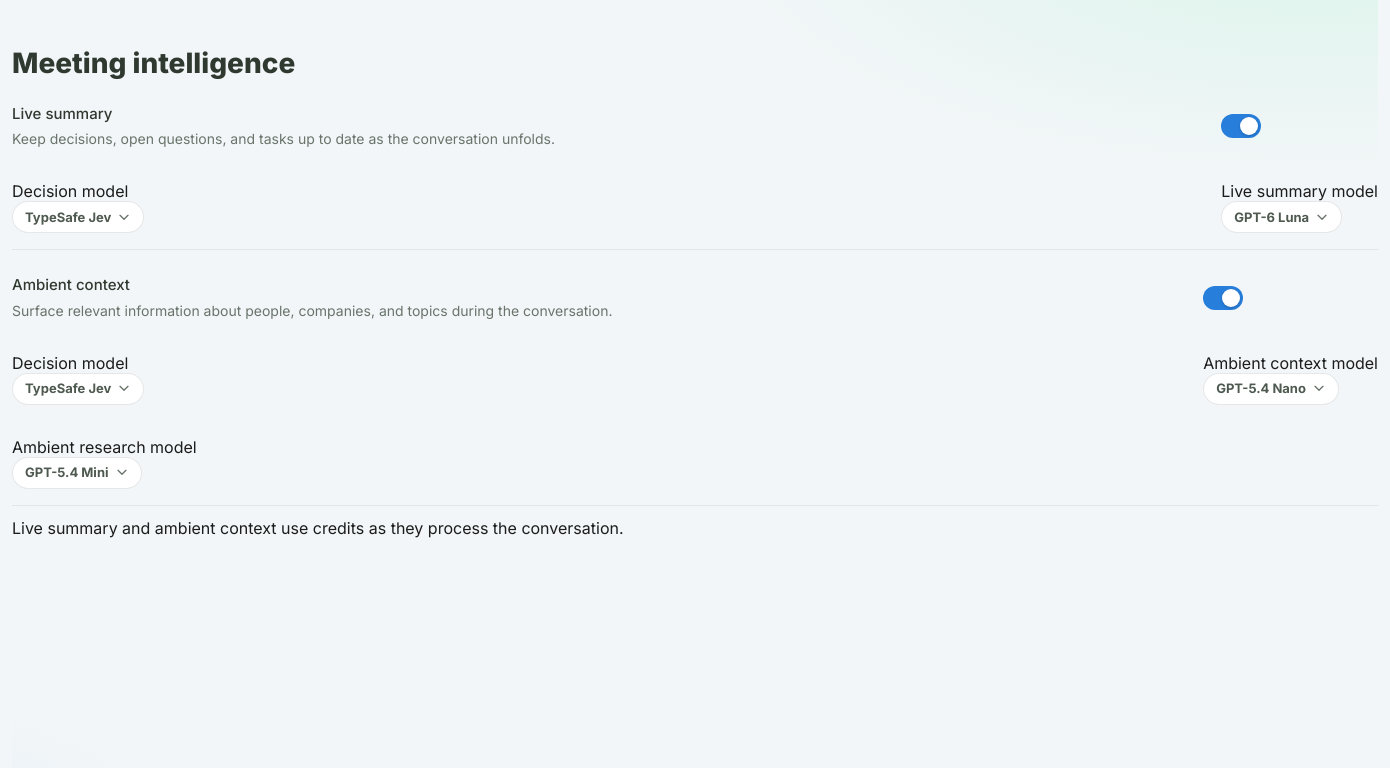
Test: each model dropdown offers only its current default
The image size is (1390, 768).
Click the button with aria-label "Live summary model: GPT-6 Luna" at (1282, 217), box [1221,201,1342,233]
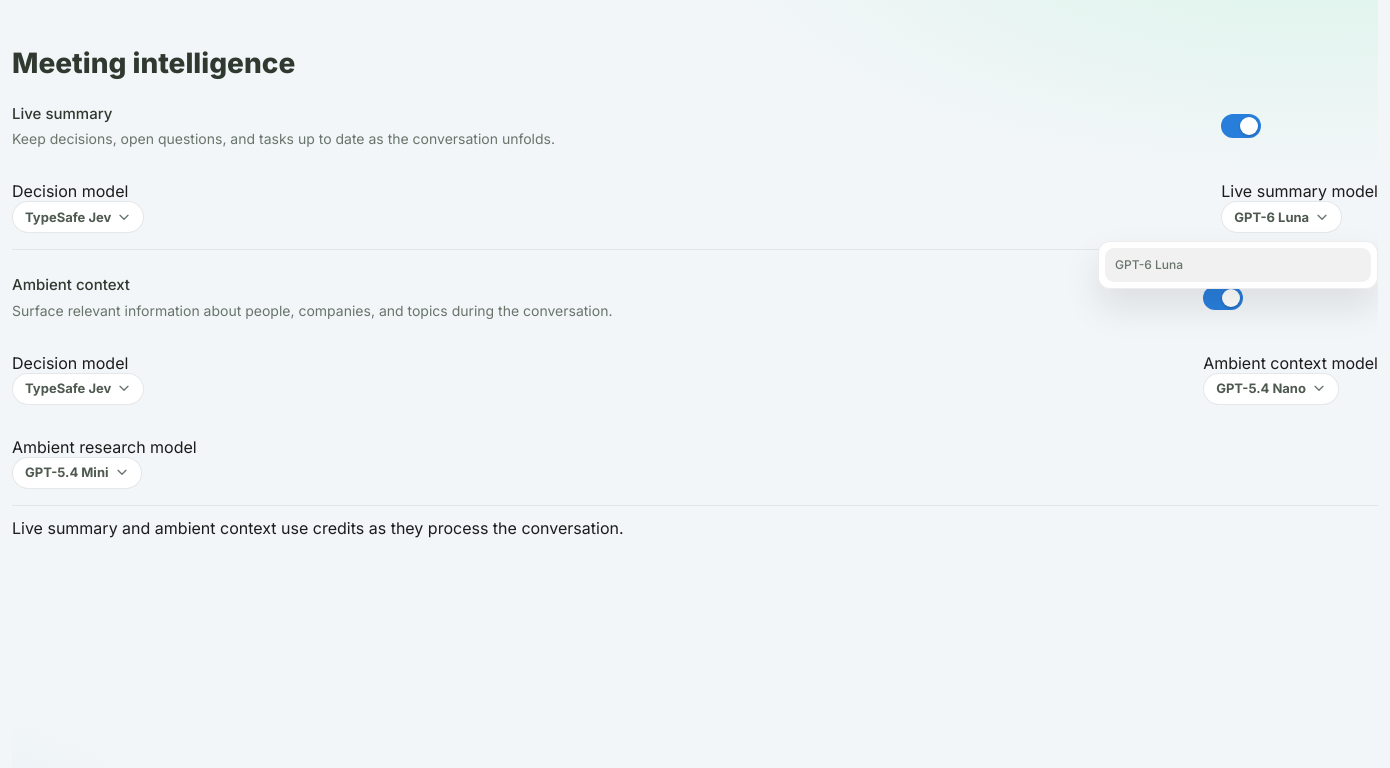
Click the option "GPT-6 Luna" at (1149, 265), box [1105,248,1371,282]
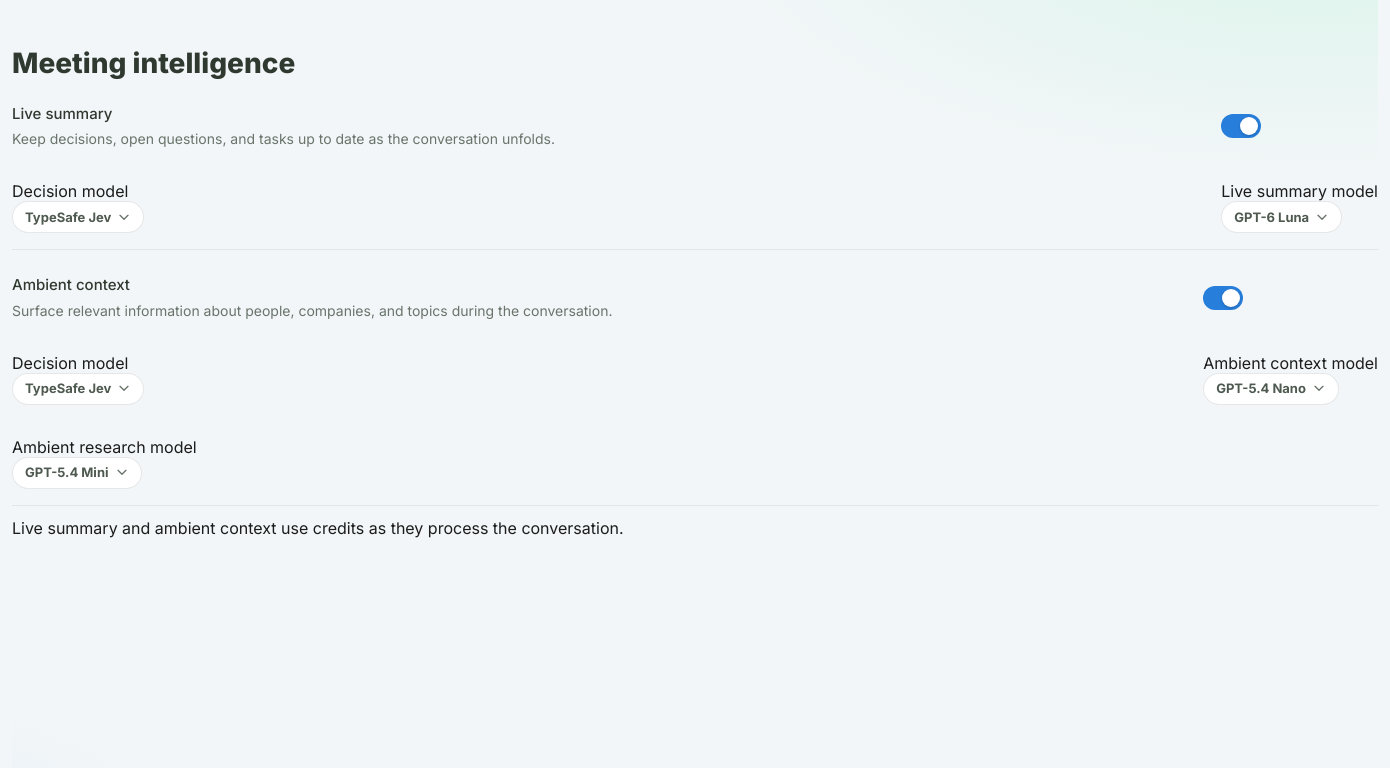
Expected: the list is gone
Click the button with aria-label "Ambient context model: GPT-5.4 Nano" at (1271, 389), box [1203,373,1339,405]
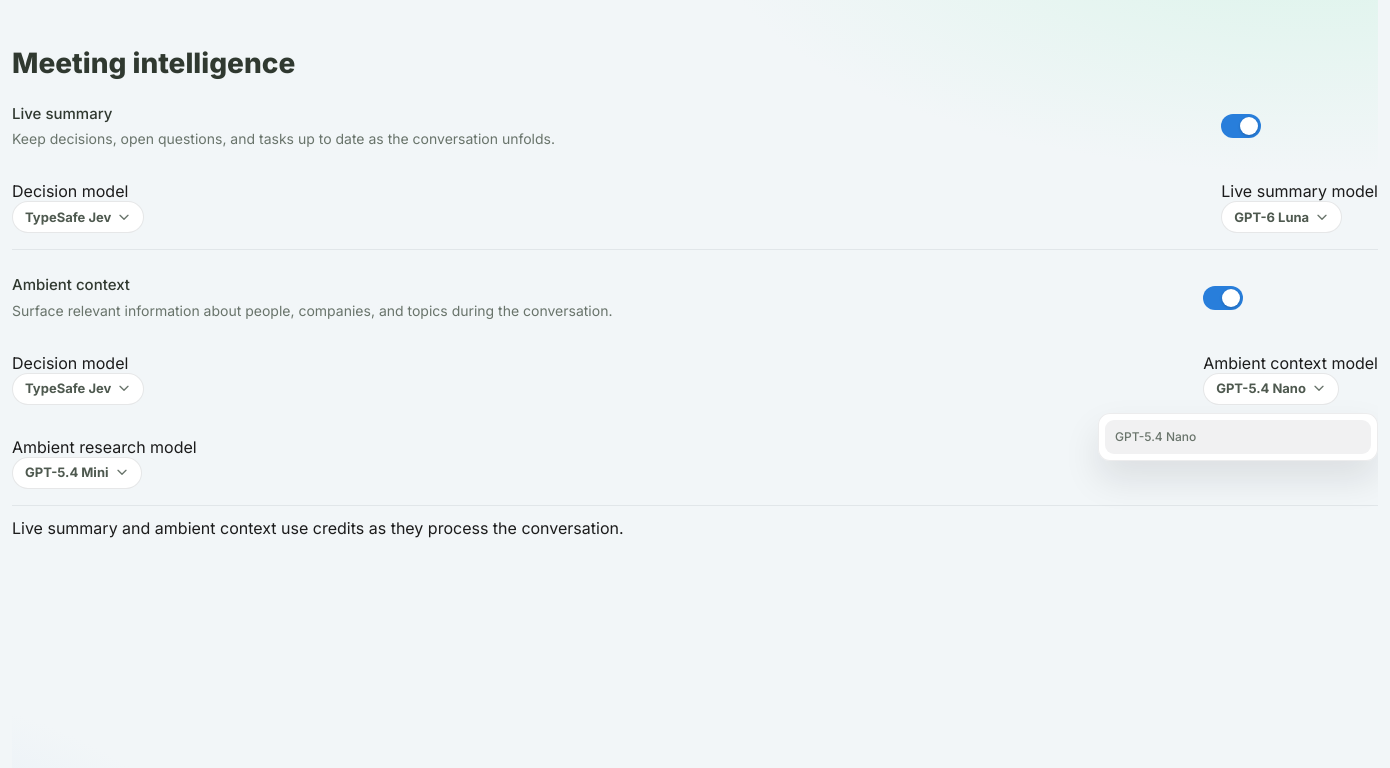
Click the option "GPT-5.4 Nano" at (1156, 436), box [1105,420,1371,454]
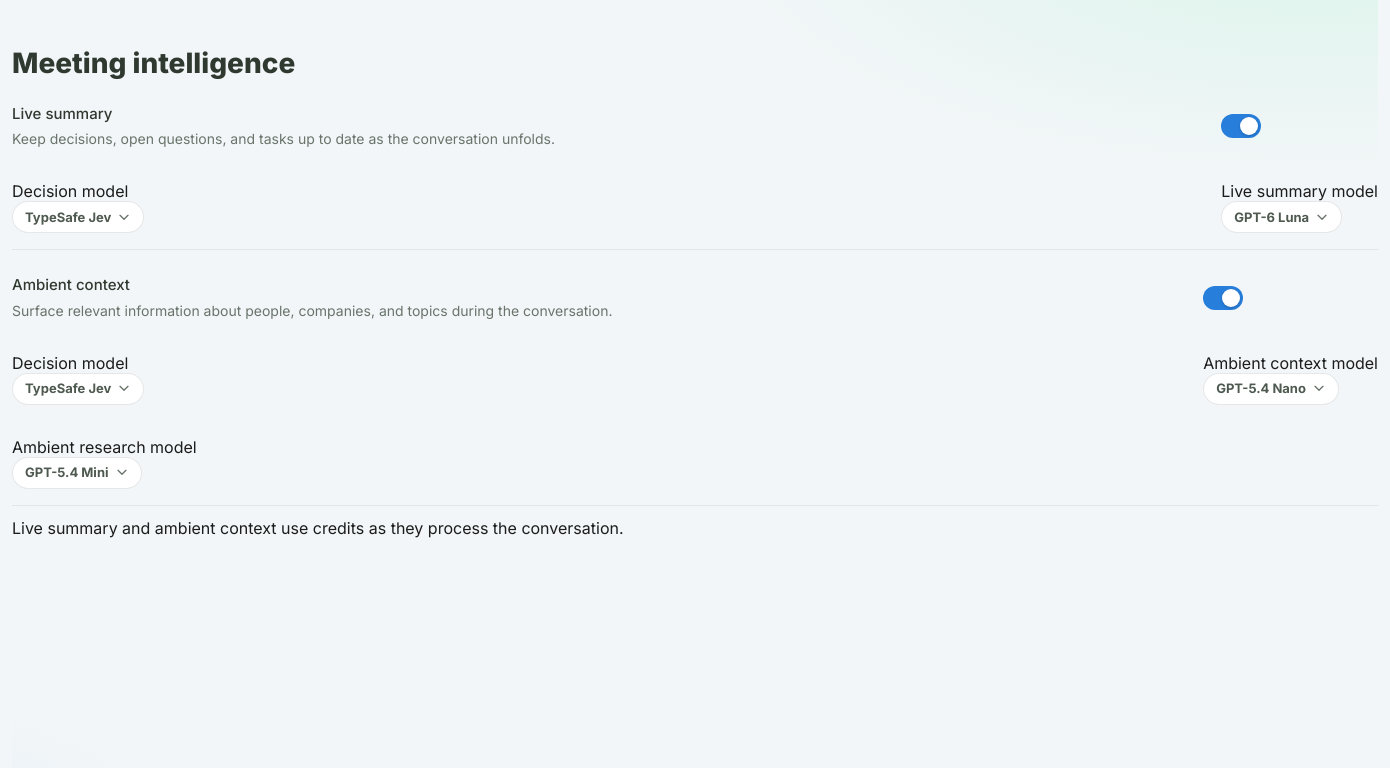
Expected: the list is gone
Click the button "GPT-5.4 Mini" at (77, 473), box [12,457,142,489]
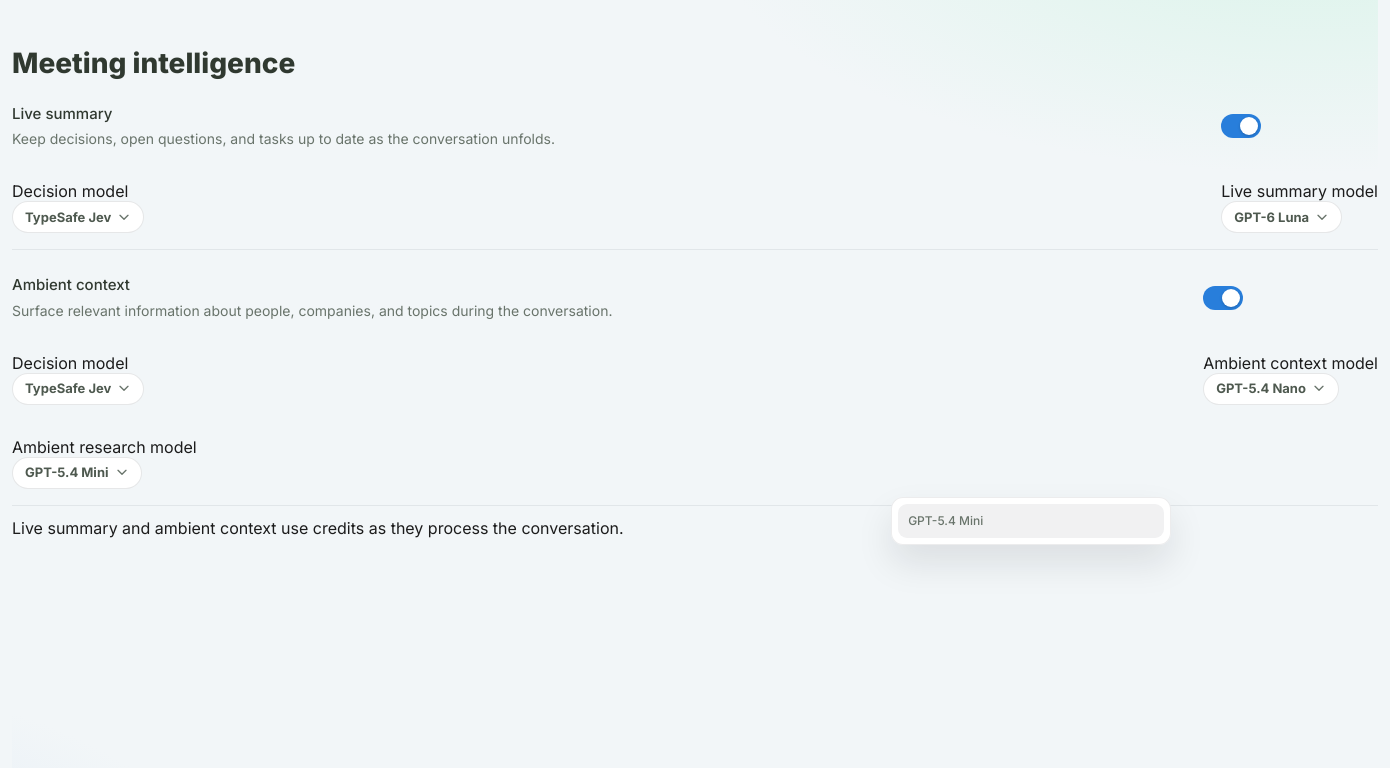
Click the option "GPT-5.4 Mini" at (946, 520), box [898,504,1164,538]
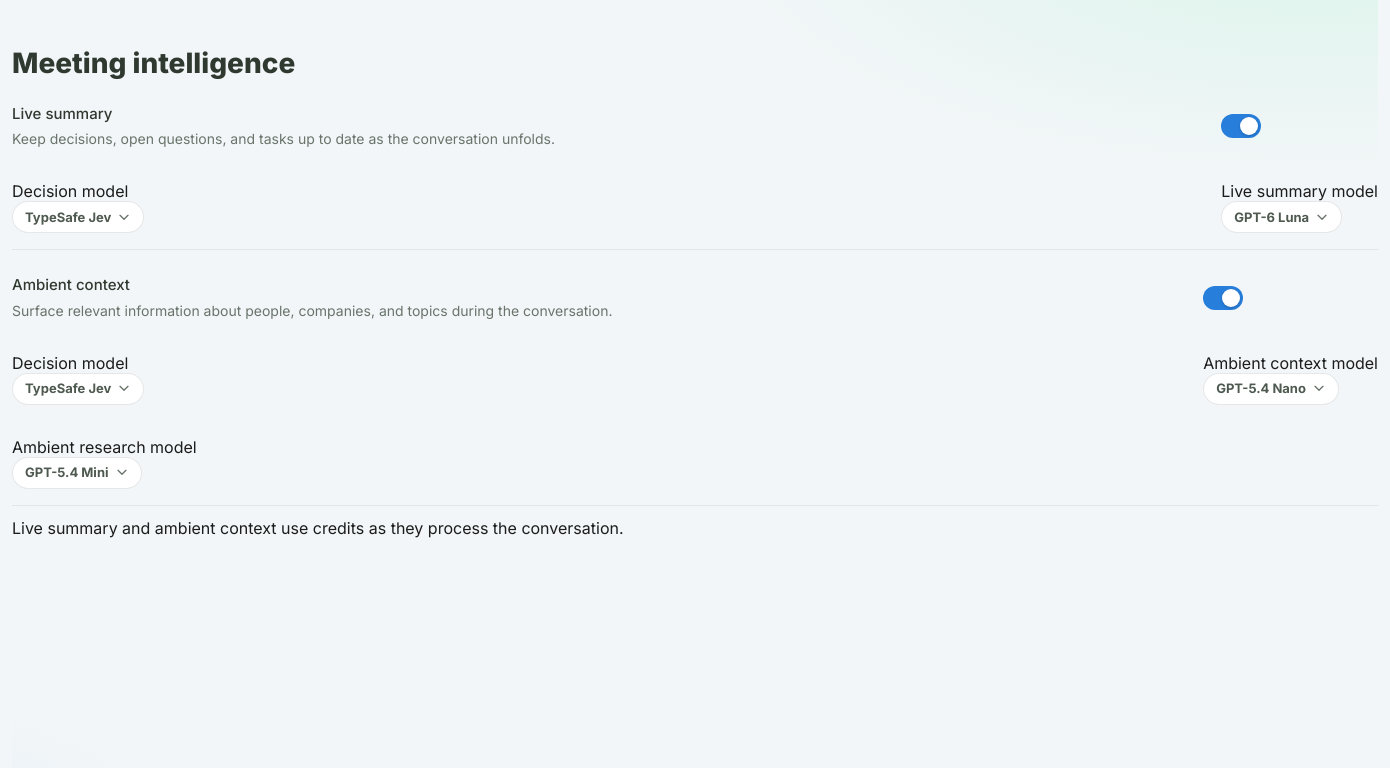
Expected: the list is gone
